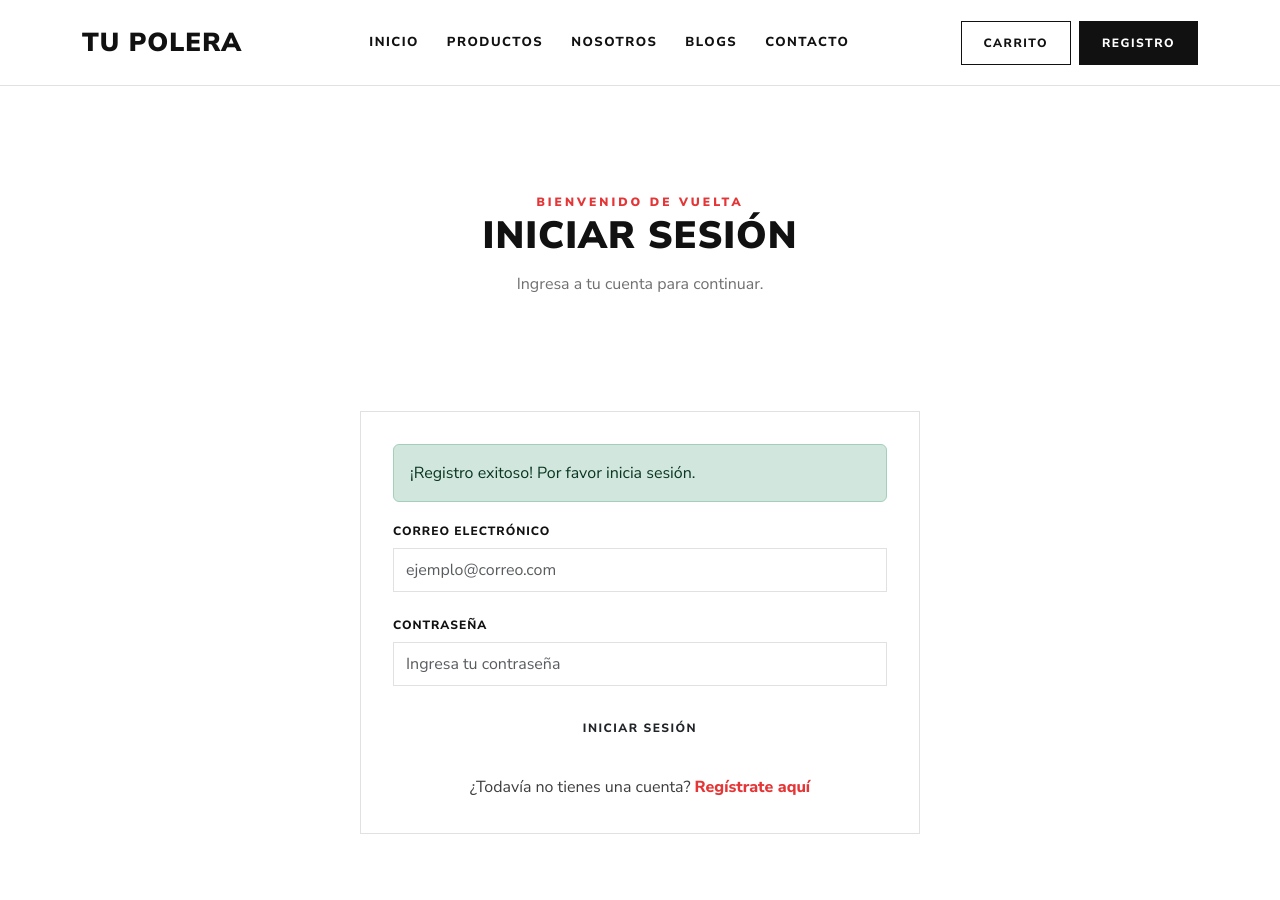
Componente Login › 3. Muestra error si el correo electrónico no se encuentra registrado
Type "noexiste@correo.com" into the field labelled "Correo electrónico" at {"x": 640, "y": 570}, box top-left (393, 548), bottom-right (887, 592)
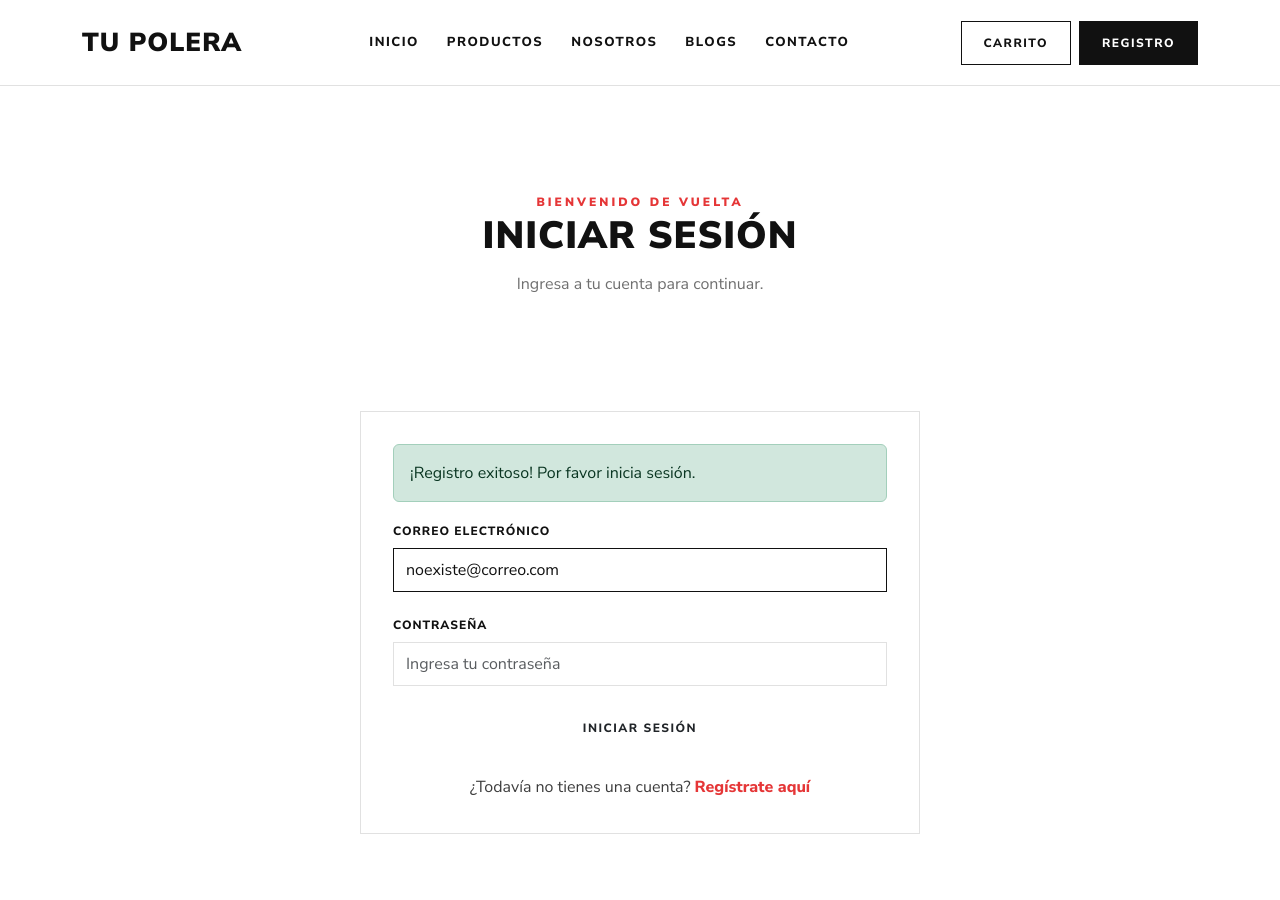
Type "password123" into the password field labelled "Contraseña" at {"x": 640, "y": 664}, box top-left (393, 642), bottom-right (887, 686)
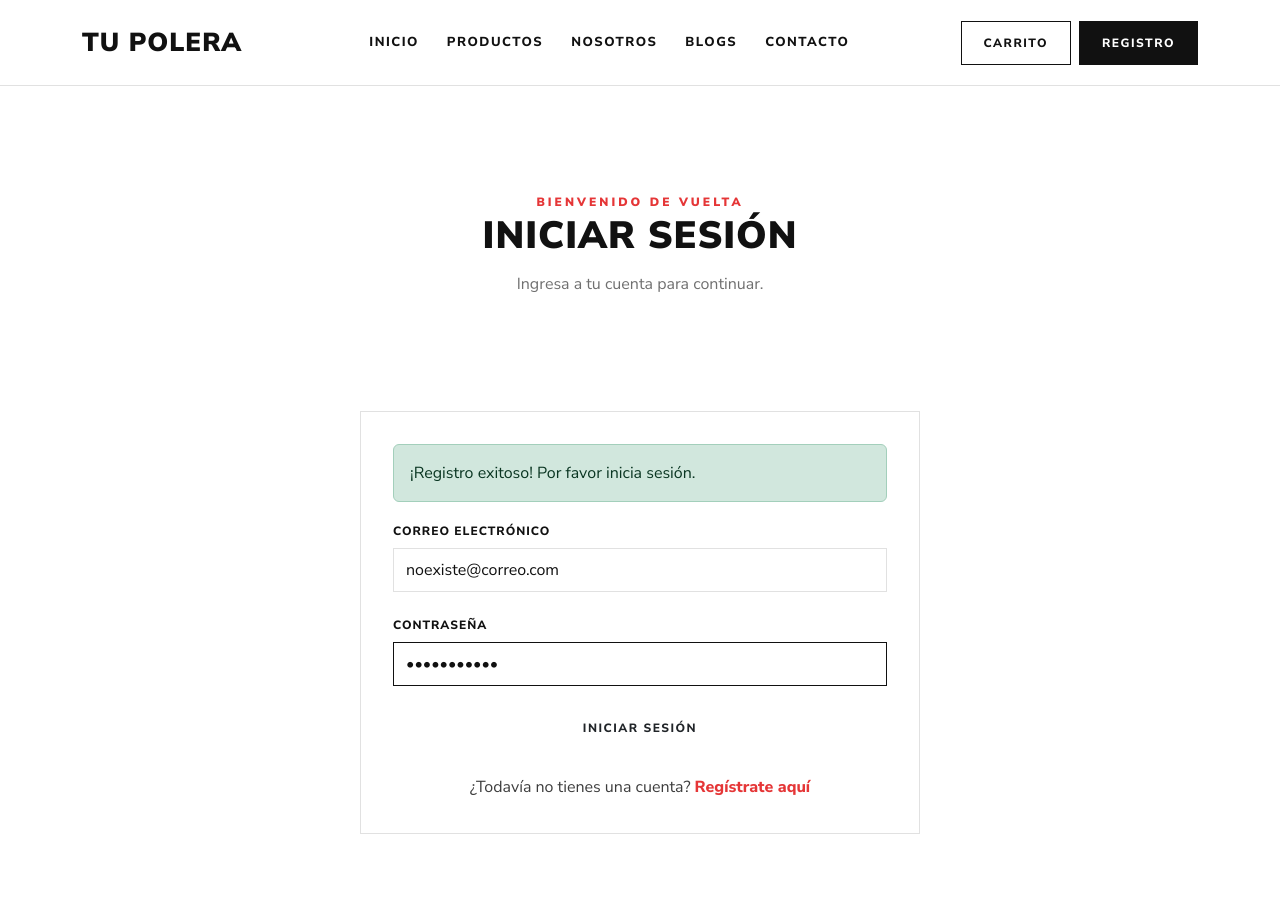
Click the button "Iniciar sesión" at {"x": 640, "y": 728}, box top-left (393, 706), bottom-right (887, 750)
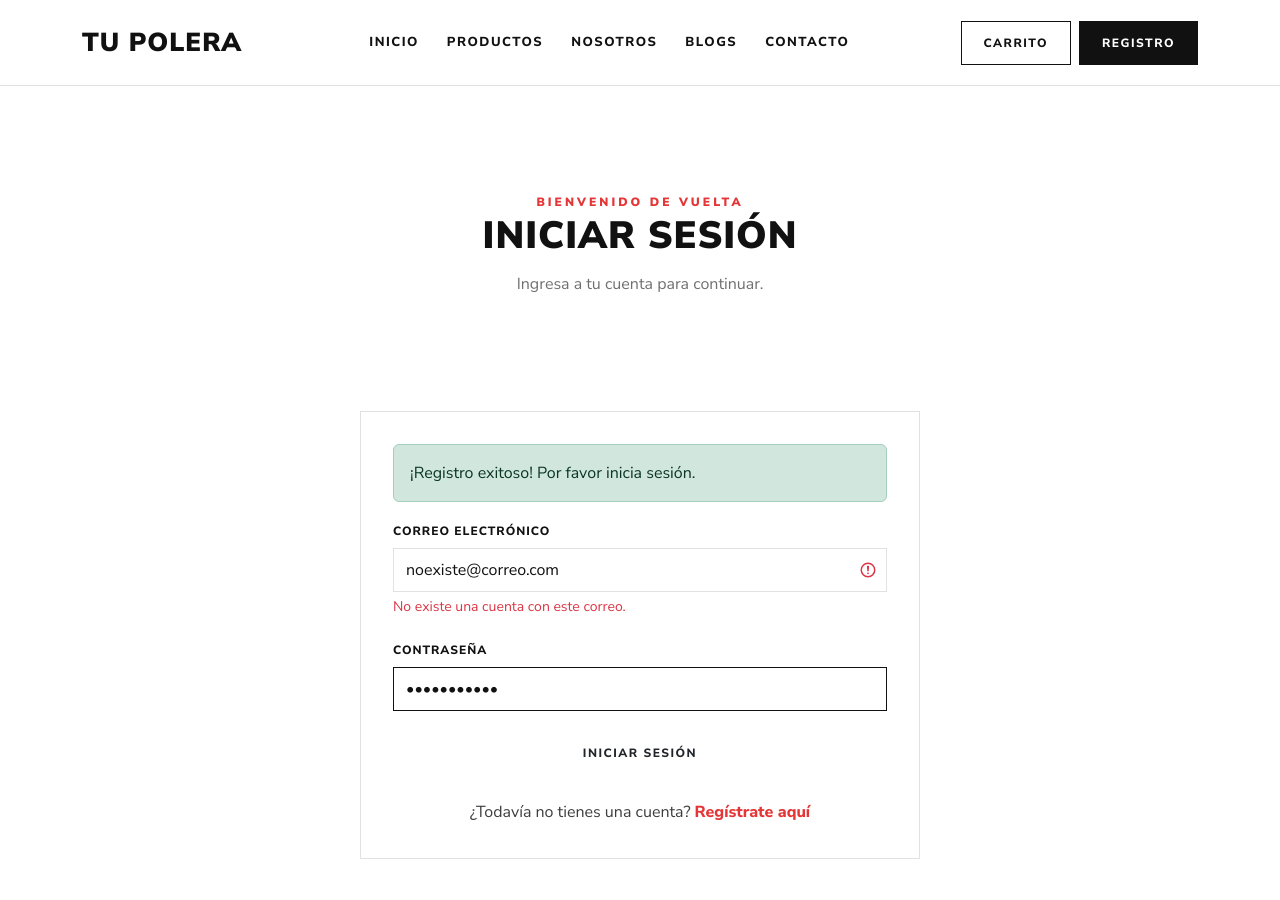
Result: the text "No existe una cuenta con este correo." is shown at top-left (393, 597), bottom-right (626, 616)
